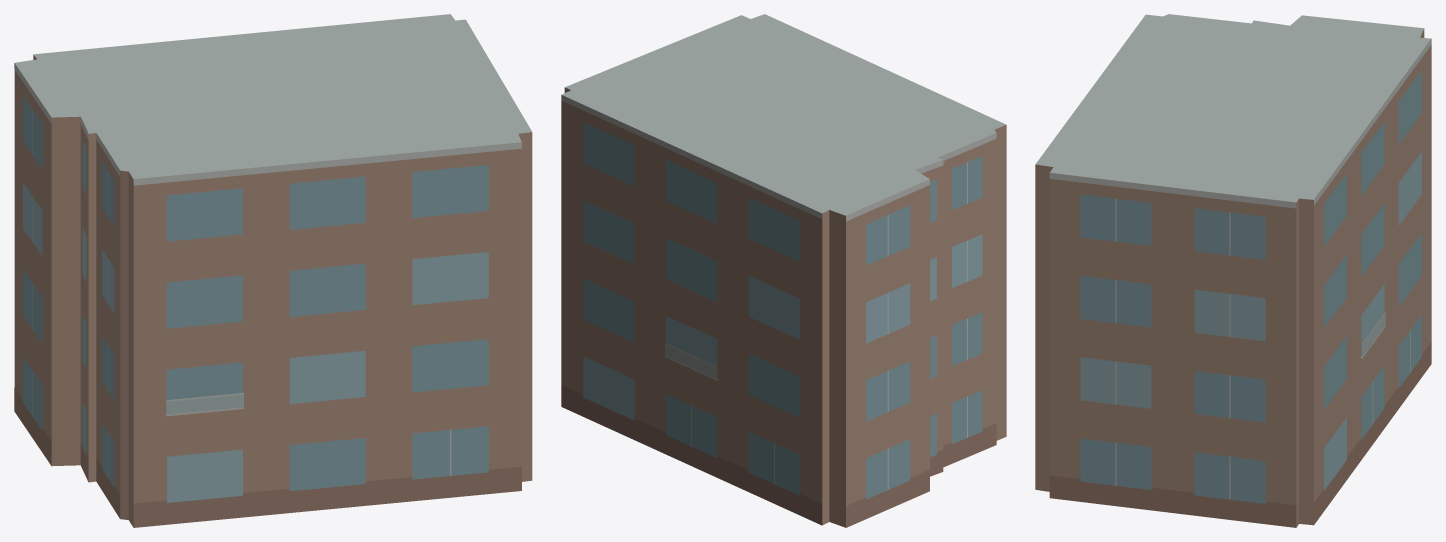
File: survey-upis-32633002.glb
3 views of the same model, side by side, from view 1: azimuth 30°, elevation 25°; view 2: azimuth 150°, elevation 25°; view 3: azimuth 270°, elevation 25° (orthographic). The views are drawn at different scales.
Visible parts, largest first — view 1: survey-upis-32633002.tmp; view 2: survey-upis-32633002.tmp; view 3: survey-upis-32633002.tmp.
Part boxes in pixels (x1,y1,x2,y2): survey-upis-32633002.tmp: [14, 14, 532, 527]; survey-upis-32633002.tmp: [561, 14, 1006, 527]; survey-upis-32633002.tmp: [1035, 14, 1431, 527].
Bounding box in the file's own units: 16.41 × 13.2 × 14.58.
